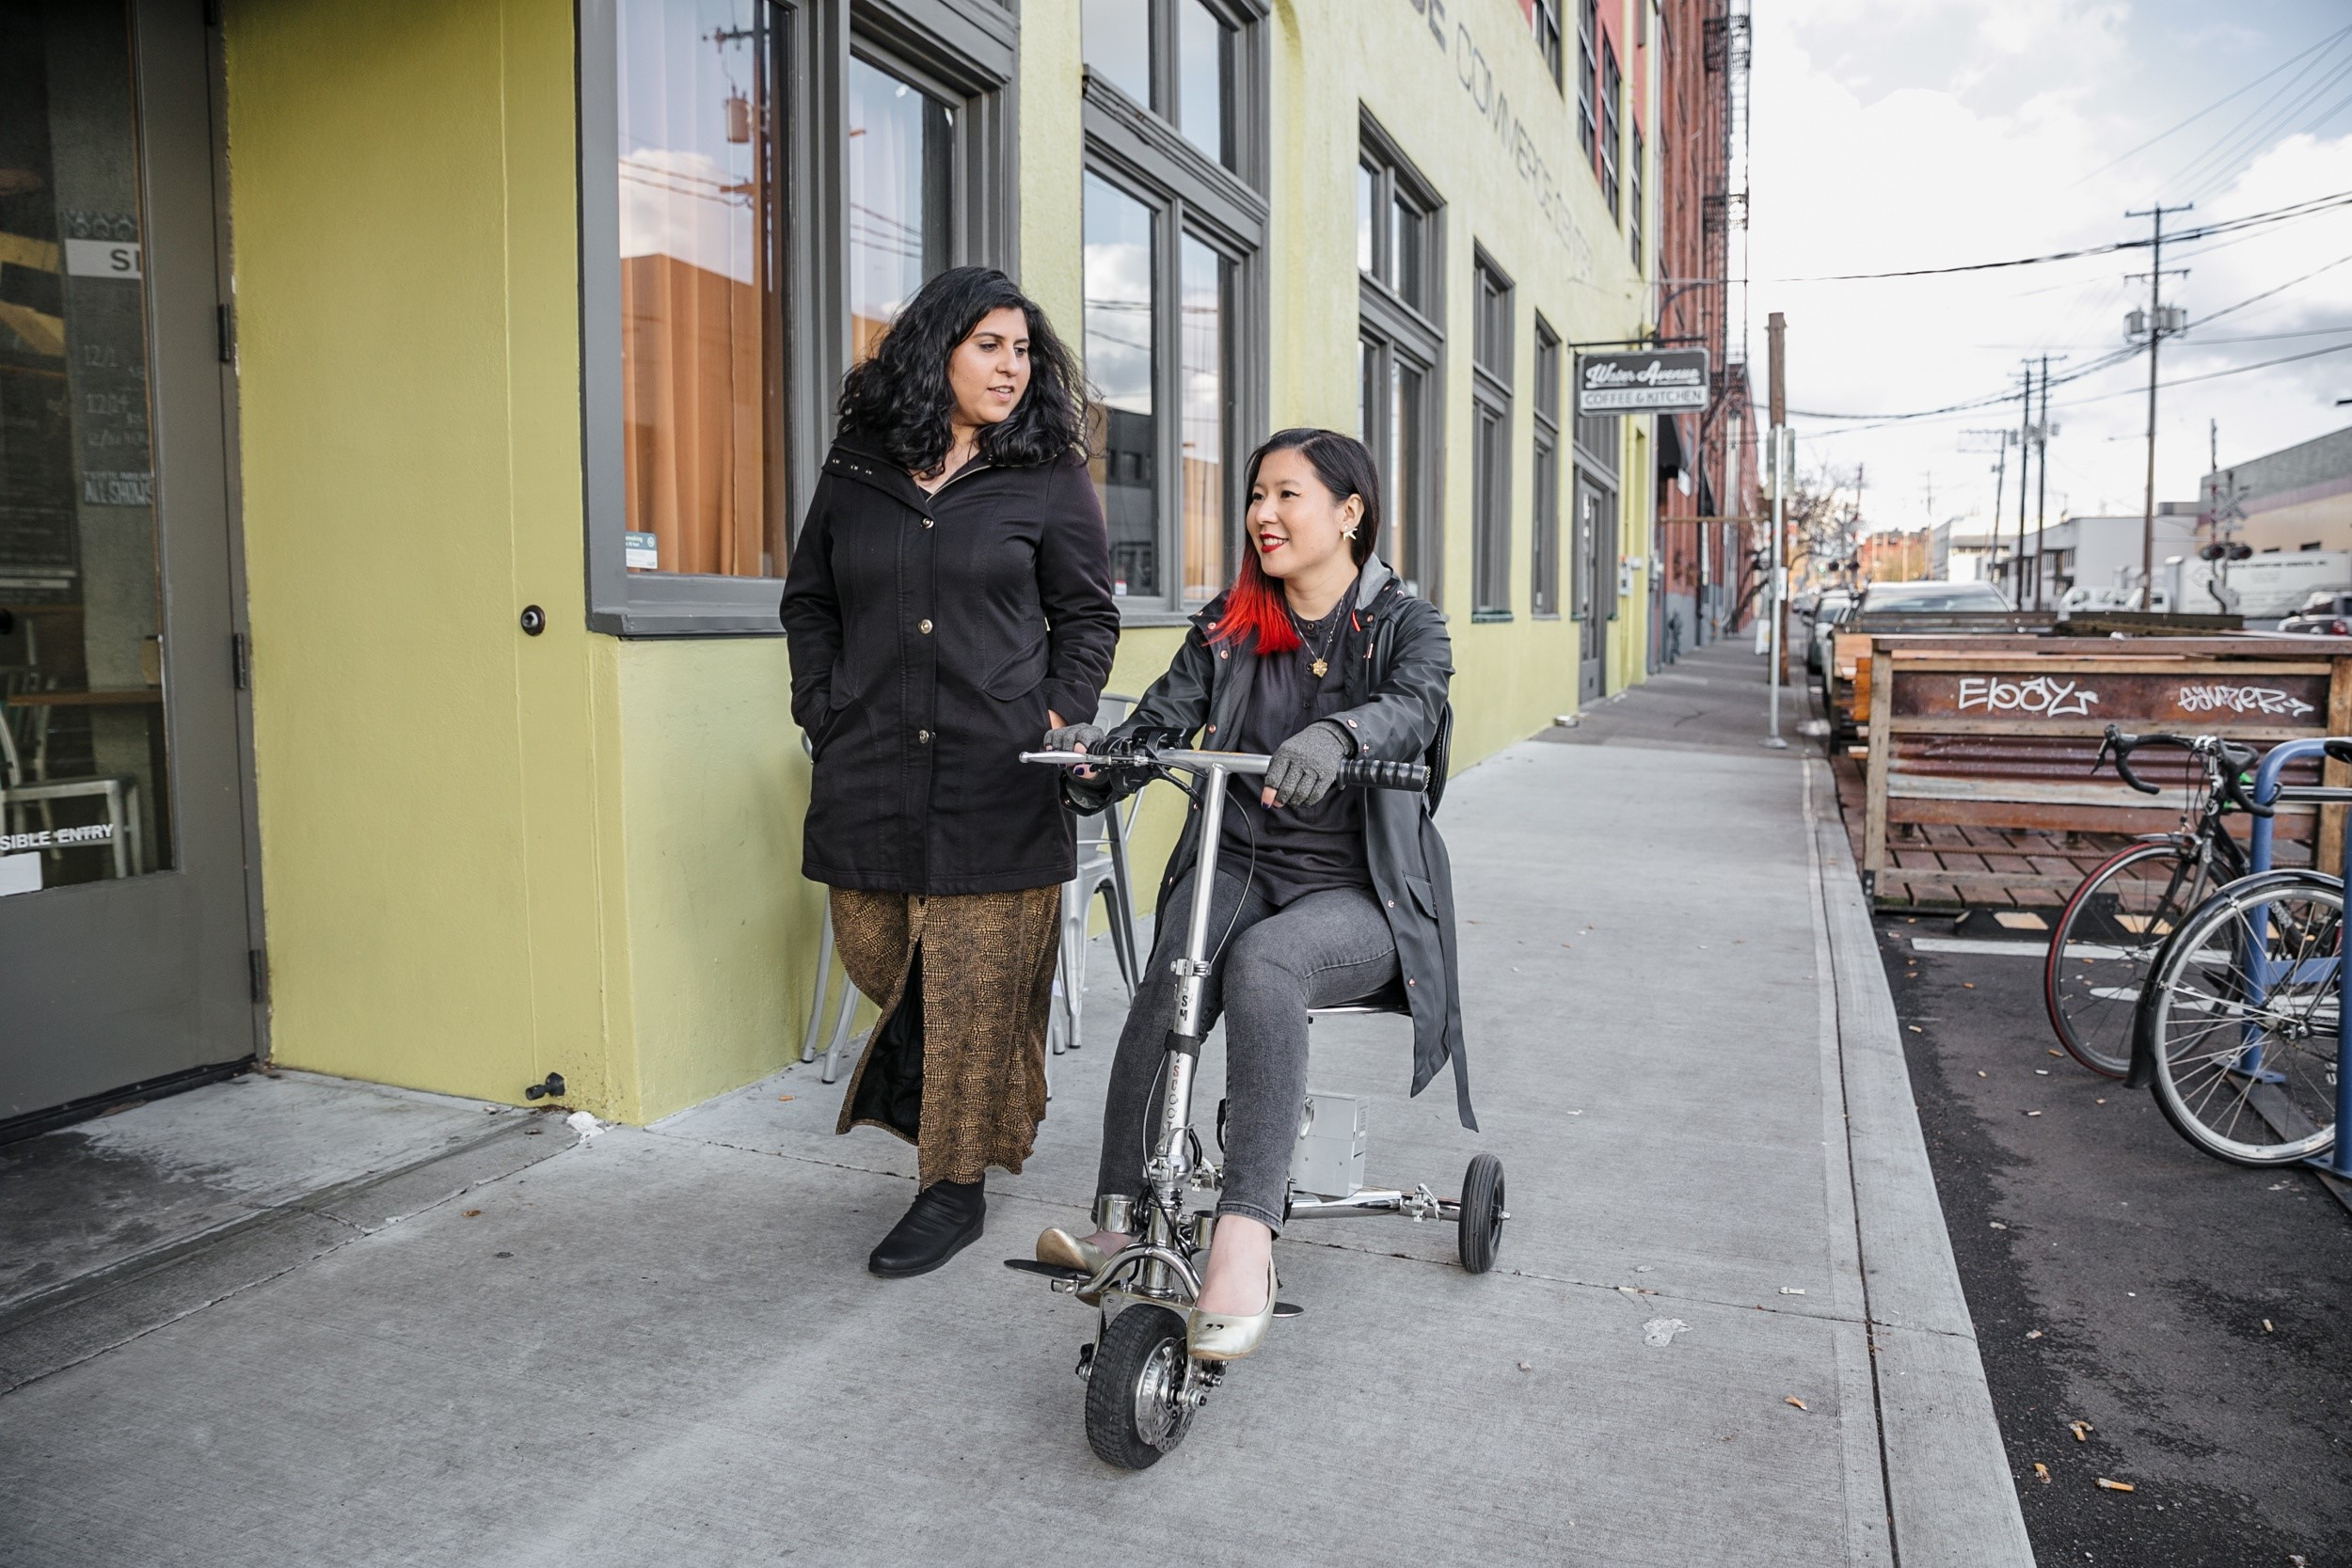face_no_mask: (1246, 429, 1372, 577), (932, 270, 1034, 426)
